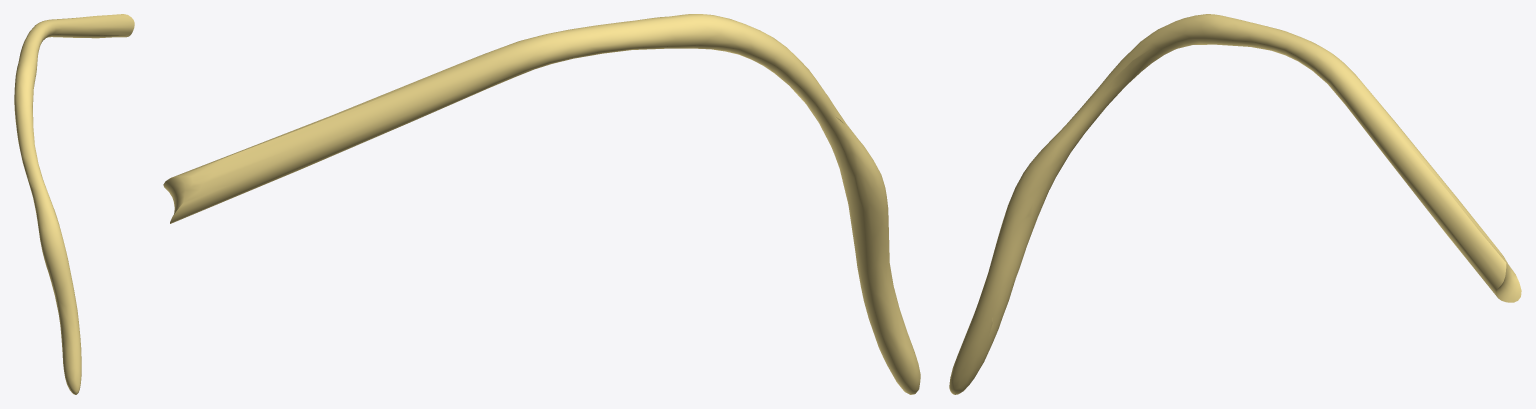
The model's file is fma80284-r_mm2639m.glb.
3 renders of one model, left to right at view 1: azimuth 30°, elevation 25°; view 2: azimuth 150°, elevation 25°; view 3: azimuth 270°, elevation 25°, orthographic. The views are drawn at different scales.
Visible parts, largest first — view 1: FMA80284-R_MM2639M; view 2: FMA80284-R_MM2639M; view 3: FMA80284-R_MM2639M.
Part boxes in pixels (box(x1,y1,x2,y2)): FMA80284-R_MM2639M: box(14, 14, 134, 394); FMA80284-R_MM2639M: box(163, 14, 920, 394); FMA80284-R_MM2639M: box(949, 14, 1521, 394).
Bounding box in the file's own units: 0.0153 × 0.0159 × 0.0201.
